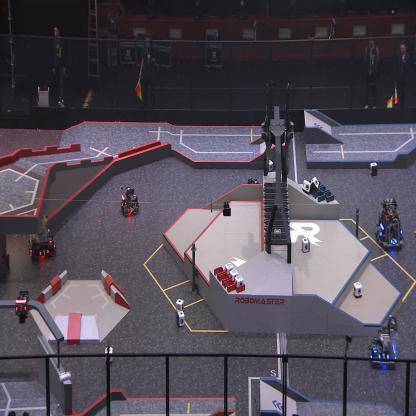car: (369, 312, 399, 368), (376, 198, 404, 252), (27, 210, 57, 259), (119, 186, 140, 217), (245, 176, 262, 206)
